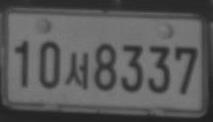0: (39, 41, 60, 89)
1: (12, 41, 33, 88)
3: (120, 44, 143, 92), (147, 45, 170, 93)
7: (174, 47, 199, 95)
8: (94, 43, 116, 91)
서: (63, 51, 89, 90)
